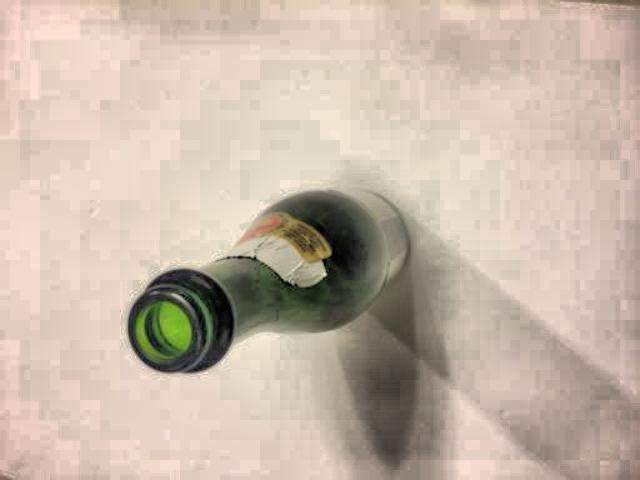Bottles: (123, 172, 433, 391)
